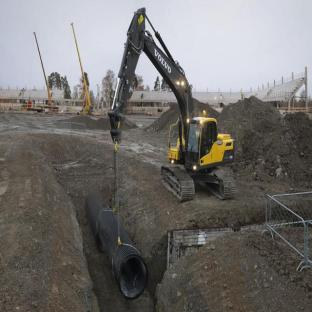ExcavationMachinery: (79, 17, 262, 214)
